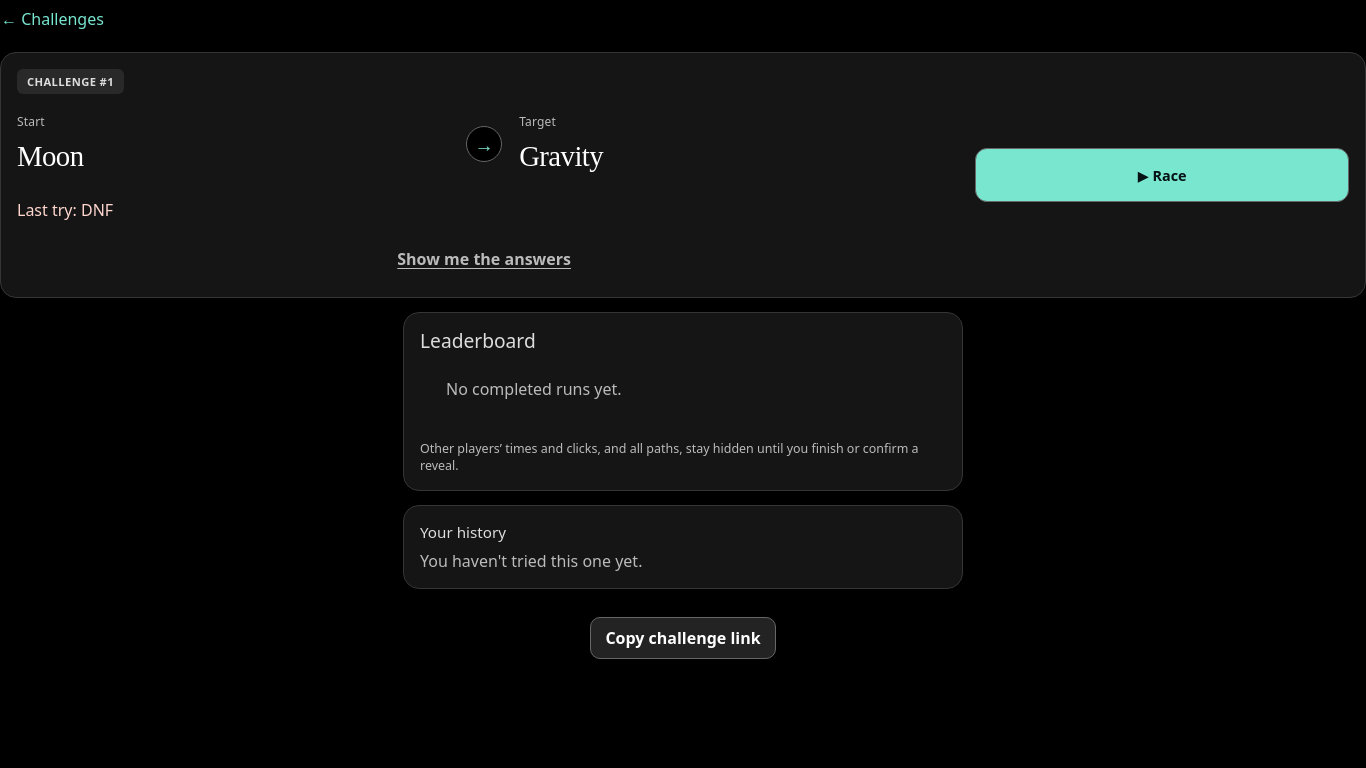
it: "I gave up" affordance + solution view (owner spec, 2026-08-02) › shows the muted 'I give up' link when eligible and not yet peeked, with the confirm copy behind it
Click the button "Show me the answers" at {"x": 484, "y": 259}, box [17,237,951,281]
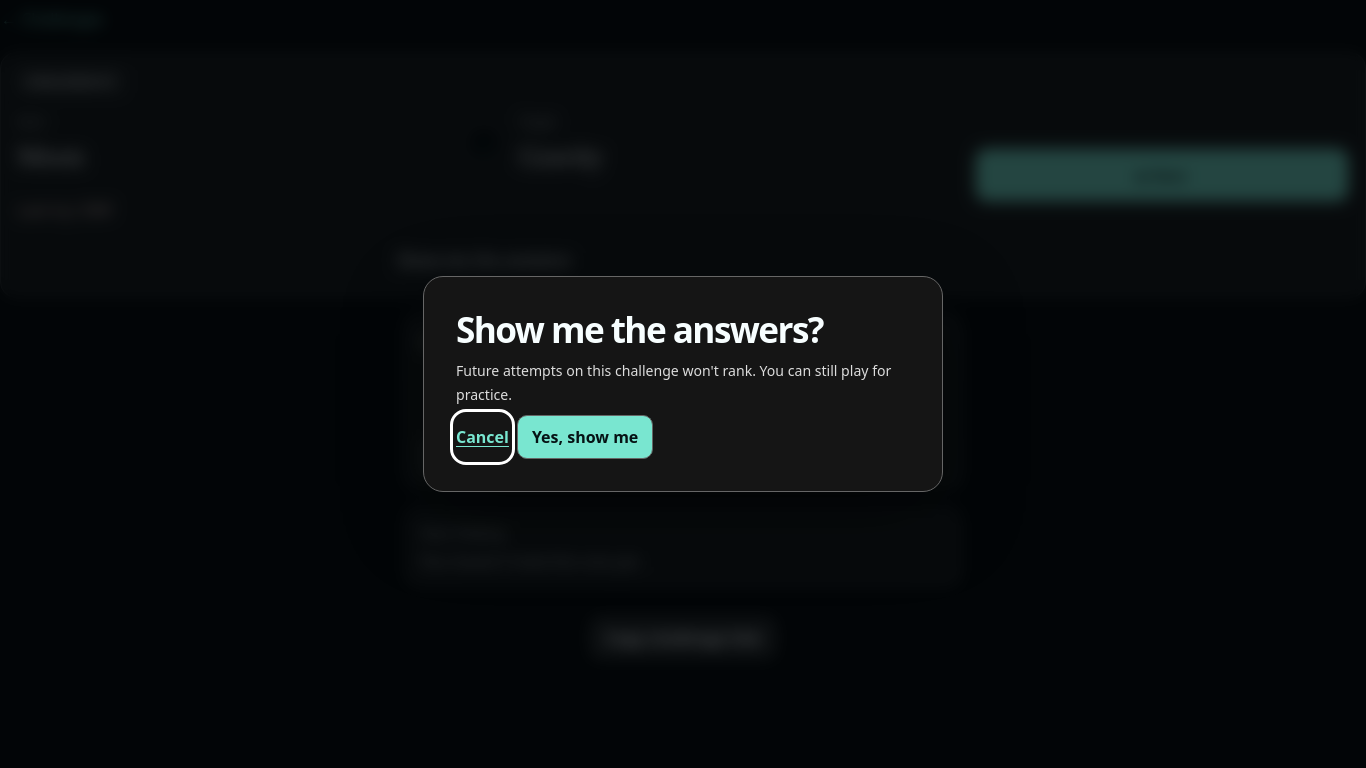
Check: the text "Future attempts on this challenge" is shown, box [456,361,891,404]
Check: the button "Yes, show me" is shown, box [517,415,653,459]
Check: the button "Cancel" is shown, box [456,415,509,459]
